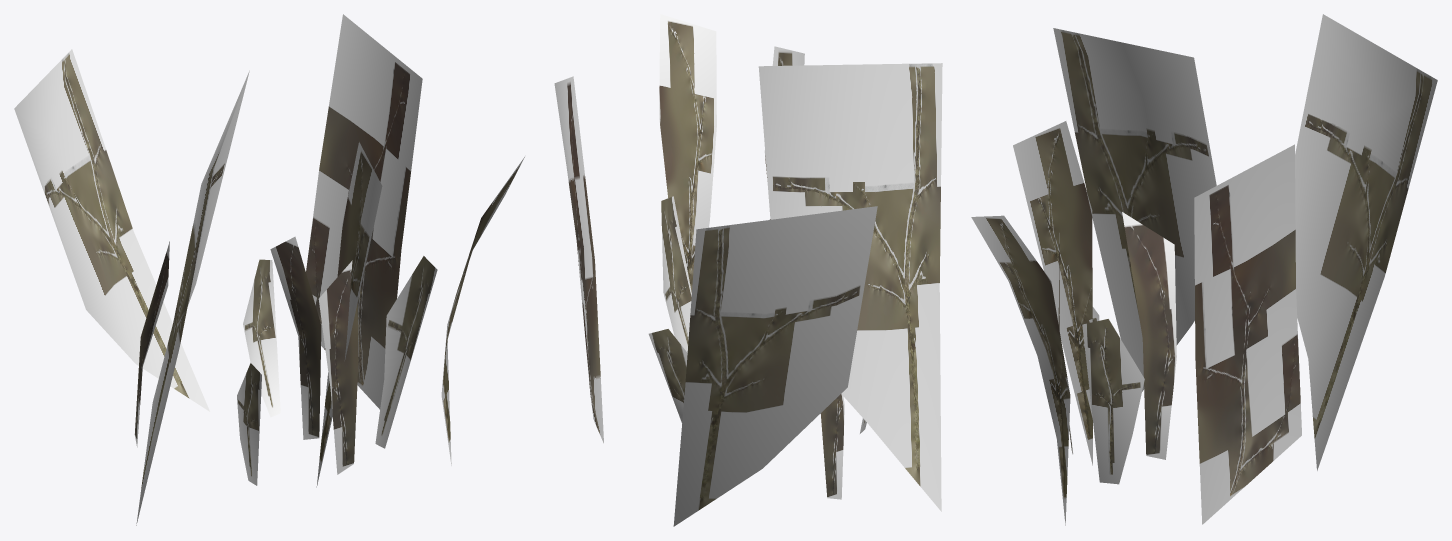
File: Bush5_1.fbx
3 views of the same model, side by side, from view 1: azimuth 30°, elevation 25°; view 2: azimuth 150°, elevation 25°; view 3: azimuth 270°, elevation 25° (orthographic). The views are drawn at different scales.
Parts seen in each view (by area): view 1: LOD0; view 2: LOD0; view 3: LOD0.
Boxes of the visible parts, x1,y1,x2,y2 form: LOD0: (14, 14, 524, 525); LOD0: (554, 14, 942, 526); LOD0: (971, 14, 1437, 525).
Size of what is drawn, in the model's own units: 157 by 169 by 172.
